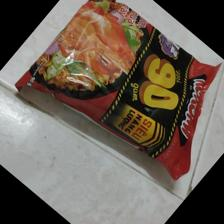Kokomi: (14, 1, 223, 180)
